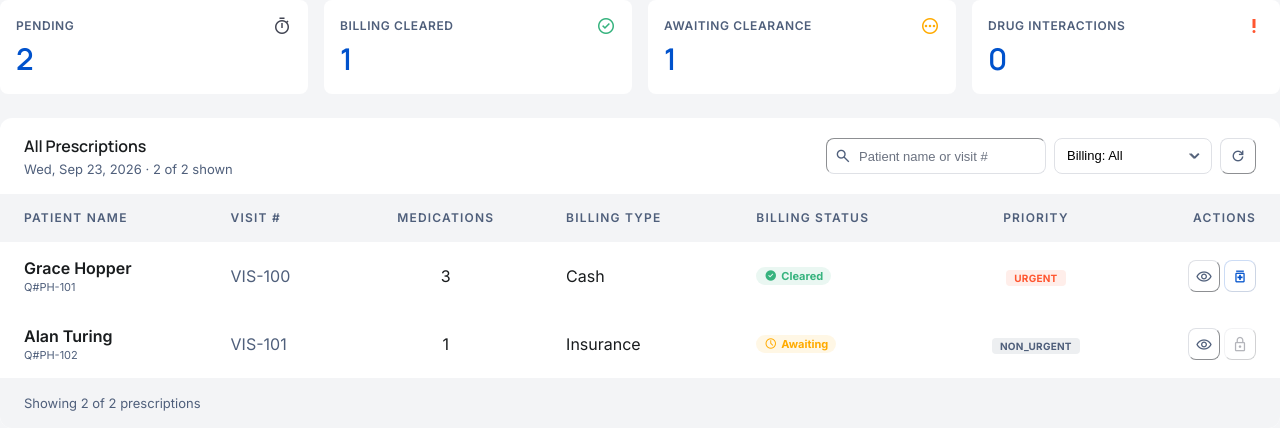
Test: PrescriptionQueuePage Component › filters queue dynamically by patient name search query
Expected: the text "Grace Hopper" is shown, [24, 258, 132, 278]
Type "Turing" into the field with placeholder "Patient name or visit #" at (936, 156), box [826, 138, 1046, 174]
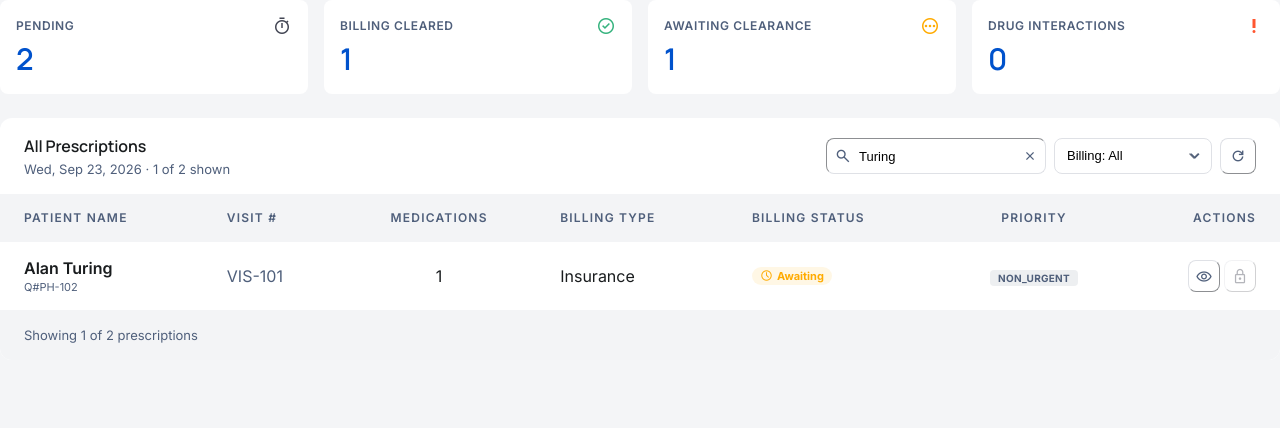
Expected: the text "Alan Turing" is shown, [24, 258, 112, 278]
Expected: the text "Grace Hopper" is gone
